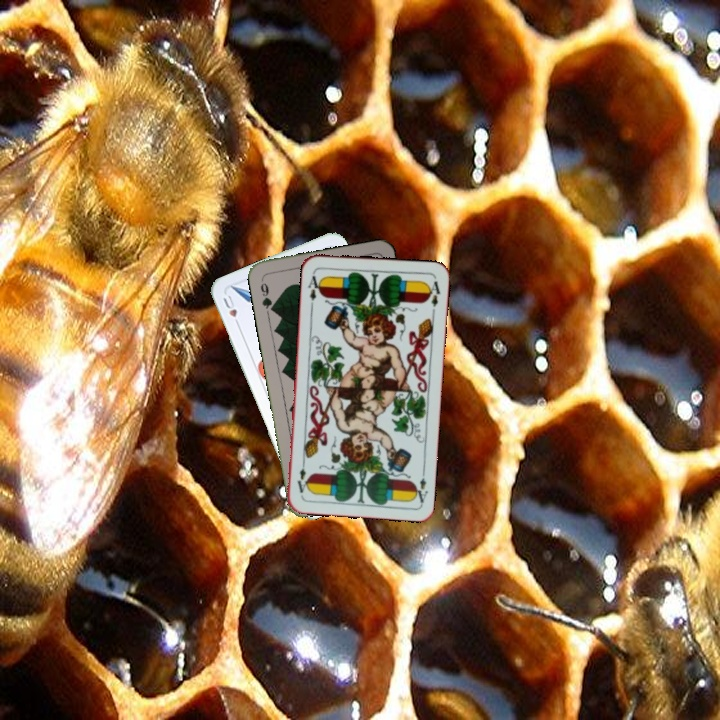EA: (304, 268, 324, 309), (410, 465, 430, 505)
G9: (256, 275, 277, 314)
HU: (219, 291, 243, 330)
